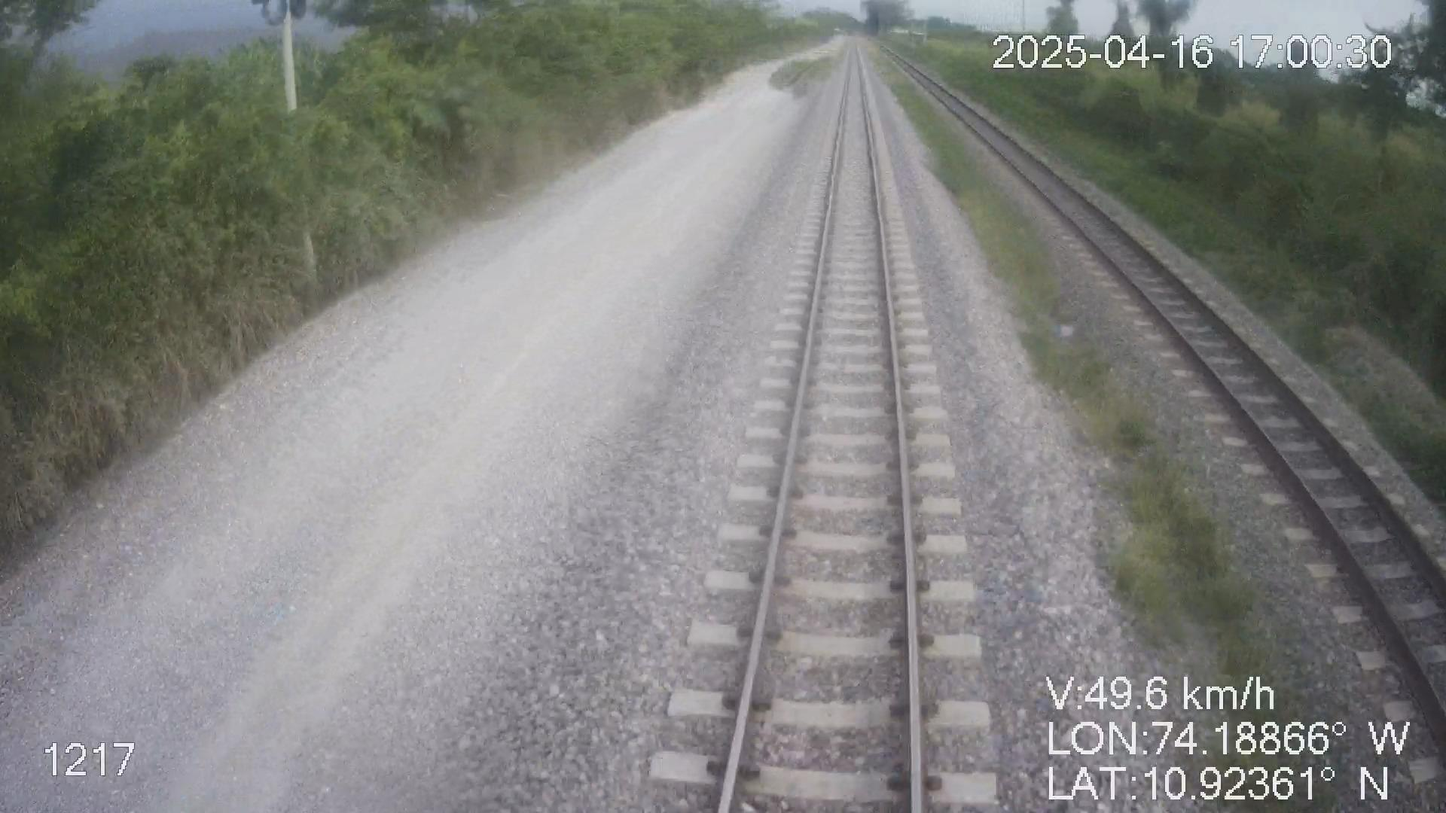Pasto: (0, 0, 816, 568), (883, 20, 1445, 522)
